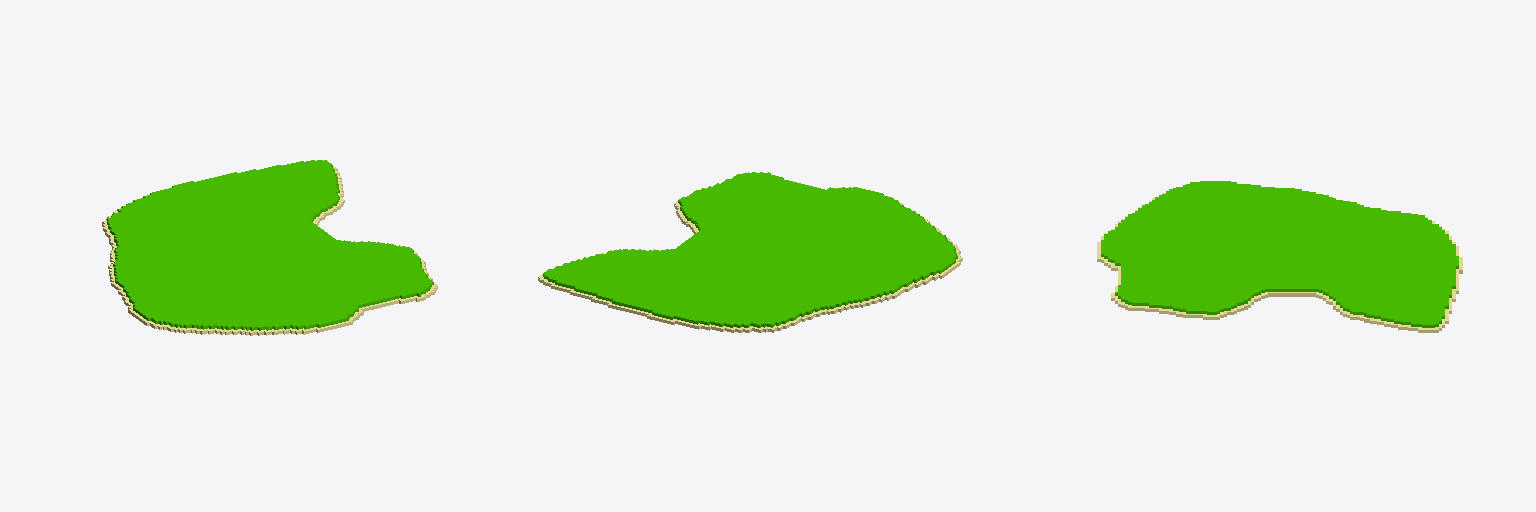
The picture shows the model from 3 angles: view 1: azimuth 30°, elevation 25°; view 2: azimuth 150°, elevation 25°; view 3: azimuth 270°, elevation 25°; orthographic projection.
Visible parts, largest first — view 1: tropical-island; view 2: tropical-island; view 3: tropical-island.
Boxes of the visible parts, box(x1,y1,x2,y2) form: tropical-island: box(102, 160, 437, 335); tropical-island: box(538, 172, 962, 332); tropical-island: box(1097, 181, 1462, 332).
Size of the model in its own units: 102 by 2 by 107.
Materials: 1 (1 with a texture image).